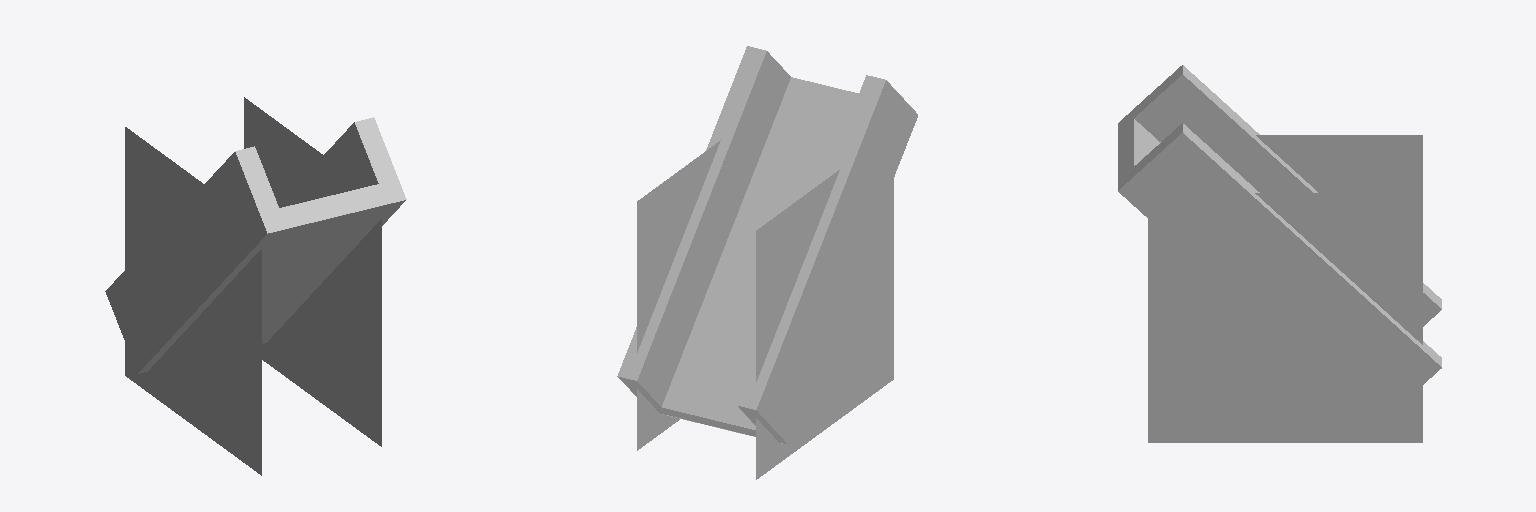
Rendered from coresample.obj.
The picture shows the model from 3 angles: view 1: azimuth 30°, elevation 25°; view 2: azimuth 150°, elevation 25°; view 3: azimuth 270°, elevation 25°; orthographic projection.
Parts seen in each view (by area): view 1: cube; view 2: cube; view 3: cube.
Boxes of the visible parts, <box> form: cube: <box>105,97,406,475</box>; cube: <box>617,46,917,479</box>; cube: <box>1118,65,1441,442</box>.
Bounding box in the file's own units: 0.4375 × 0.9464 × 0.8839.